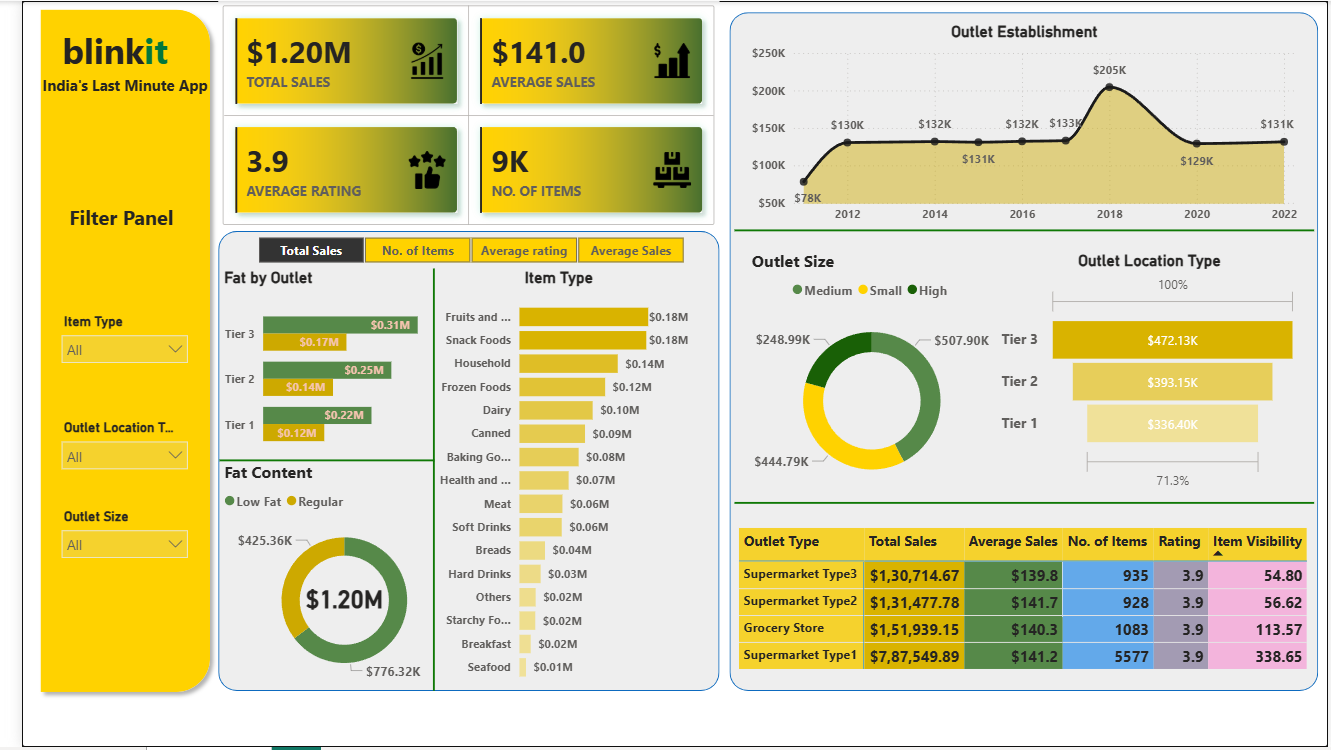

Layout of this report page (visuals, bound fields, positions):
{"tool":"powerbi","page":{"name":"Dashboard","canvas":[1400,800],"ordinal":0},"visuals":[{"type":"shape","box":[10.5,0,200,750],"z":0},{"type":"textbox","box":[0,22.5,199.6,70.5],"z":1000},{"type":"textbox","box":[10.5,73.5,199.6,37.5],"z":2000},{"type":"cardVisual","fields":{"Data":["BlinkIT Grocery Data.Toatal Sales","BlinkIT Grocery Data.Average Sales","BlinkIT Grocery Data.Average rating","BlinkIT Grocery Data.No. of Items"]},"box":[210.5,0,537.5,246.7],"z":3000},{"type":"shape","box":[210.5,246.7,537.5,493.3],"z":4000},{"type":"donutChart","title":"Fat Content","fields":{"Y":["BlinkIT Grocery Data.Total Sales"],"Category":["BlinkIT Grocery Data.Item Fat Content"]},"box":[211.8,493.3,268.1,246.7],"z":5000},{"type":"slicer","fields":{"Values":["Metrics.Metrics"]},"box":[227.9,246.7,505.4,40.2],"z":6000},{"type":"card","fields":{"Values":["BlinkIT Grocery Data.Total Sales"]},"box":[262.7,615.3,166.2,50.9],"z":7000},{"type":"clusteredBarChart","title":"Fat by Outlet ","fields":{"Y":["BlinkIT Grocery Data.Total Sales"],"Category":["BlinkIT Grocery Data.Outlet Location Type"],"Series":["BlinkIT Grocery Data.Item Fat Content"]},"box":[211.8,286.9,268.1,211.8],"z":8000},{"type":"barChart","title":"Item Type","fields":{"Y":["BlinkIT Grocery Data.Total Sales"],"Category":["BlinkIT Grocery Data.Item Type"]},"box":[431.6,286.9,288.2,453.1],"z":9000},{"type":"shape","box":[758.7,12.1,631.4,727.9],"z":10000},{"type":"lineChart","title":"Outlet Establishment","fields":{"Y":["BlinkIT Grocery Data.Total Sales"],"Category":["BlinkIT Grocery Data.Outlet Establishment Year"]},"box":[777.5,22.8,595.2,223.9],"z":11000},{"type":"donutChart","title":"Outlet Size","fields":{"Y":["BlinkIT Grocery Data.Total Sales"],"Category":["BlinkIT Grocery Data.Outlet Size"]},"box":[777.5,266.8,268.1,272.1],"z":12000},{"type":"funnel","title":"Outlet Location Type","fields":{"Category":["BlinkIT Grocery Data.Outlet Location Type"],"Y":["BlinkIT Grocery Data.Total Sales"]},"box":[1045.6,268.1,327.1,261.4],"z":12001},{"type":"pivotTable","fields":{"Values":["BlinkIT Grocery Data.Total Sales","BlinkIT Grocery Data.Average Sales","BlinkIT Grocery Data.No. of Items","BlinkIT Grocery Data.Average rating","Sum(BlinkIT Grocery Data.Item Visibility)"],"Rows":["BlinkIT Grocery Data.Outlet Type"]},"box":[764.1,560.3,622,162.2],"z":12002},{"type":"shape","box":[764.1,197.1,622,97.9],"z":12003},{"type":"shape","box":[764.1,489.3,622,97.9],"z":12004},{"type":"shape","box":[211.8,443.7,230.6,97.9],"z":12005},{"type":"shape","box":[426.3,286.9,30.8,453.1],"z":12006},{"type":"slicer","fields":{"Values":["BlinkIT Grocery Data.Item Type"]},"box":[32.2,329.8,155.5,63],"z":12007},{"type":"slicer","fields":{"Values":["BlinkIT Grocery Data.Outlet Size"]},"box":[32.2,538.9,155.5,63],"z":12008},{"type":"slicer","fields":{"Values":["BlinkIT Grocery Data.Outlet Location Type"]},"box":[32.2,443.7,155.5,63],"z":12009},{"type":"textbox","box":[45.6,211.8,142.1,45.6],"z":12010}]}

Visuals, with their boxes in screenshot pixels (x1, y1, x2, y2), scaled from the page's 1400x800 canvas onto the 1331x750 screenshot:
shape: 10, 0, 200, 703
textbox: 0, 21, 190, 87
textbox: 10, 69, 200, 104
cardVisual - BlinkIT Grocery Data.Toatal Sales x BlinkIT Grocery Data.Average Sales: 200, 0, 711, 231
shape: 200, 231, 711, 694
"Fat Content" donutChart: 201, 462, 456, 694
slicer - Metrics.Metrics: 217, 231, 697, 269
card - BlinkIT Grocery Data.Total Sales: 250, 577, 408, 625
"Fat by Outlet " clusteredBarChart: 201, 269, 456, 468
"Item Type" barChart: 410, 269, 684, 694
shape: 721, 11, 1322, 694
"Outlet Establishment" lineChart: 739, 21, 1305, 231
"Outlet Size" donutChart: 739, 250, 994, 505
"Outlet Location Type" funnel: 994, 251, 1305, 496
pivotTable - BlinkIT Grocery Data.Total Sales x BlinkIT Grocery Data.Average Sales: 726, 525, 1318, 677
shape: 726, 185, 1318, 277
shape: 726, 459, 1318, 550
shape: 201, 416, 421, 508
shape: 405, 269, 435, 694
slicer - BlinkIT Grocery Data.Item Type: 31, 309, 178, 368
slicer - BlinkIT Grocery Data.Outlet Size: 31, 505, 178, 564
slicer - BlinkIT Grocery Data.Outlet Location Type: 31, 416, 178, 475
textbox: 43, 199, 178, 241
